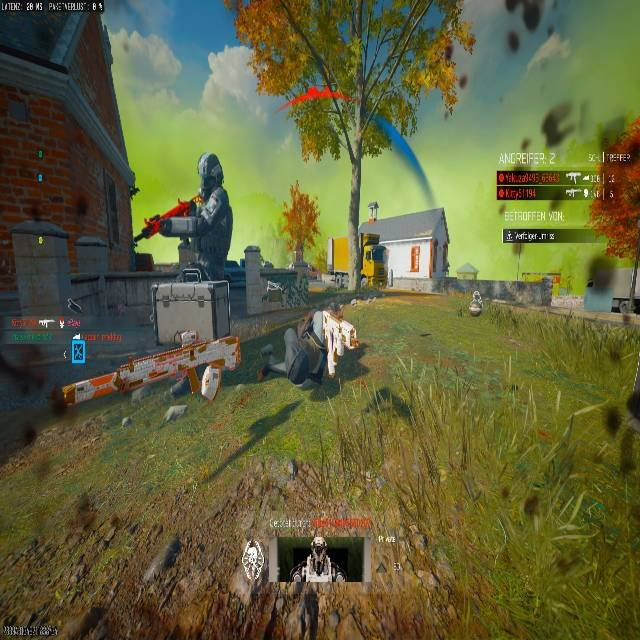head: (198, 152, 224, 194), (310, 536, 325, 555)
player: (291, 537, 344, 639), (359, 230, 388, 287), (466, 289, 483, 317)
